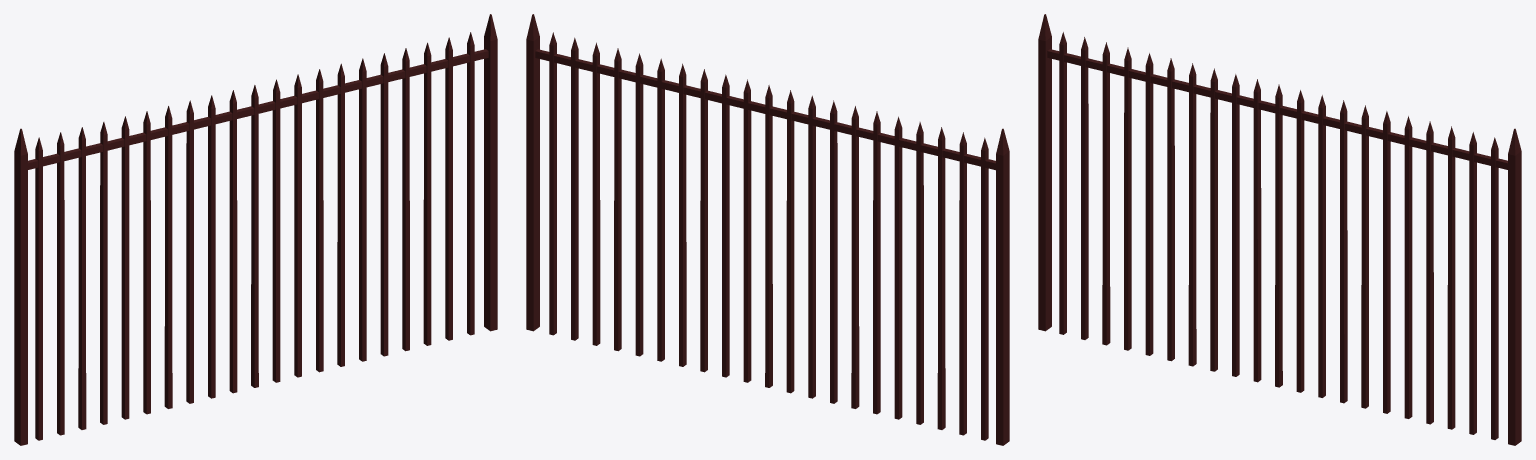
File: Fence.fbx
The picture shows the model from 3 angles, left to right: view 1: azimuth 30°, elevation 25°; view 2: azimuth 150°, elevation 25°; view 3: azimuth 330°, elevation 25°; orthographic projection.
Visible parts, largest first — view 1: polySurface36; view 2: polySurface36; view 3: polySurface36.
Boxes of the visible parts, left/top/right/bottom form: polySurface36: left=14, top=14, right=497, bottom=445; polySurface36: left=526, top=14, right=1009, bottom=445; polySurface36: left=1038, top=14, right=1521, bottom=445.
Bounding box in the file's own units: 35.05 × 22.08 × 0.8163.
